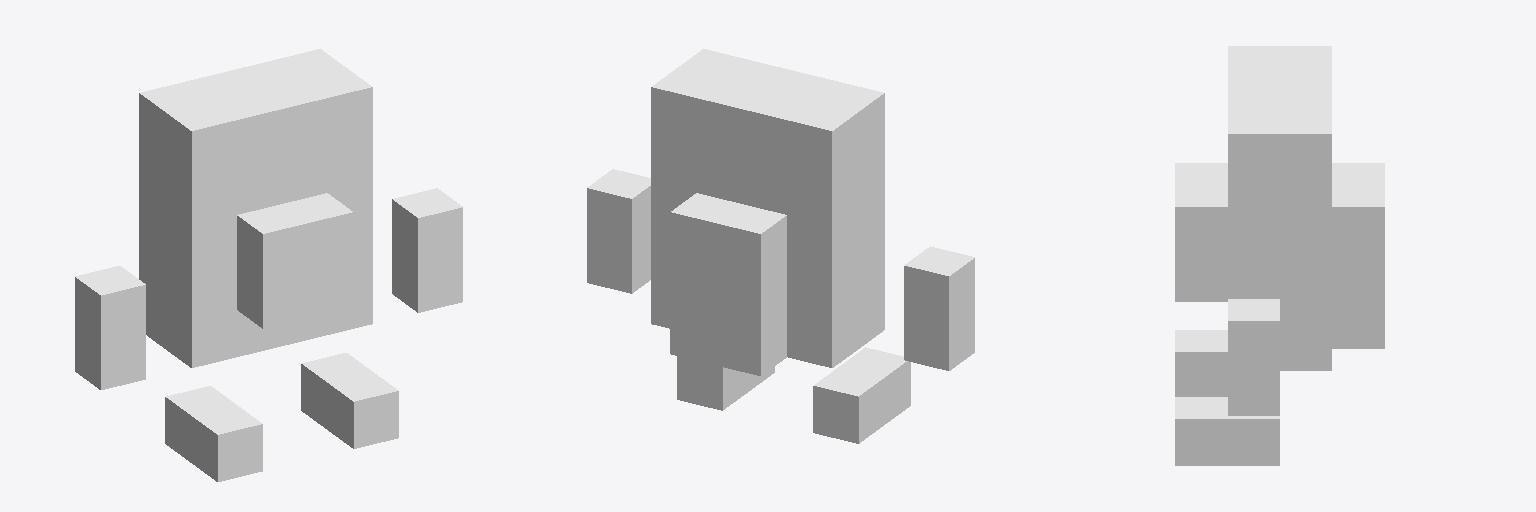
The model's file is dwarf-1.obj.
3 renders of one model, left to right at view 1: azimuth 30°, elevation 25°; view 2: azimuth 150°, elevation 25°; view 3: azimuth 270°, elevation 25°, orthographic.
Parts seen in each view (by area): view 1: object 1; view 2: object 1; view 3: object 1.
Part boxes in pixels (x1,y1,x2,y2): object 1: (75, 49, 462, 481); object 1: (587, 49, 974, 443); object 1: (1175, 46, 1384, 465).
Size of the model in its own units: 0.8 by 0.7 by 0.4.